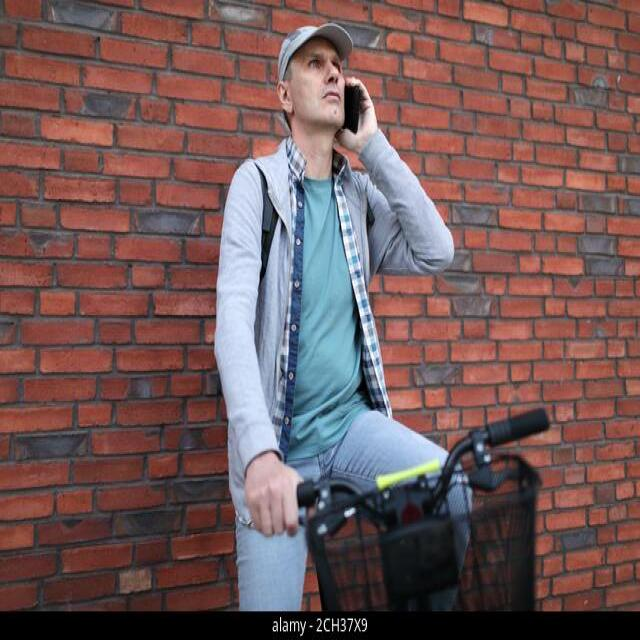Not Wearing Helmet: (265, 2, 353, 215)
Usage Of Phone While Riding: (254, 0, 461, 358)
